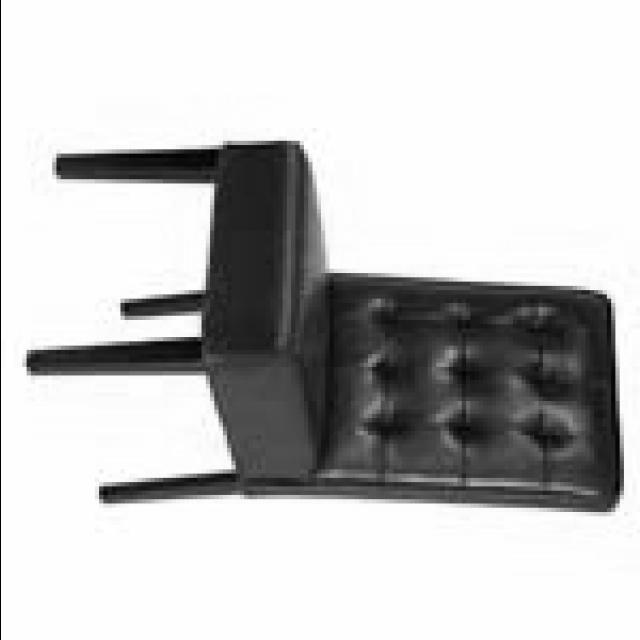chair: (24, 143, 624, 516)
